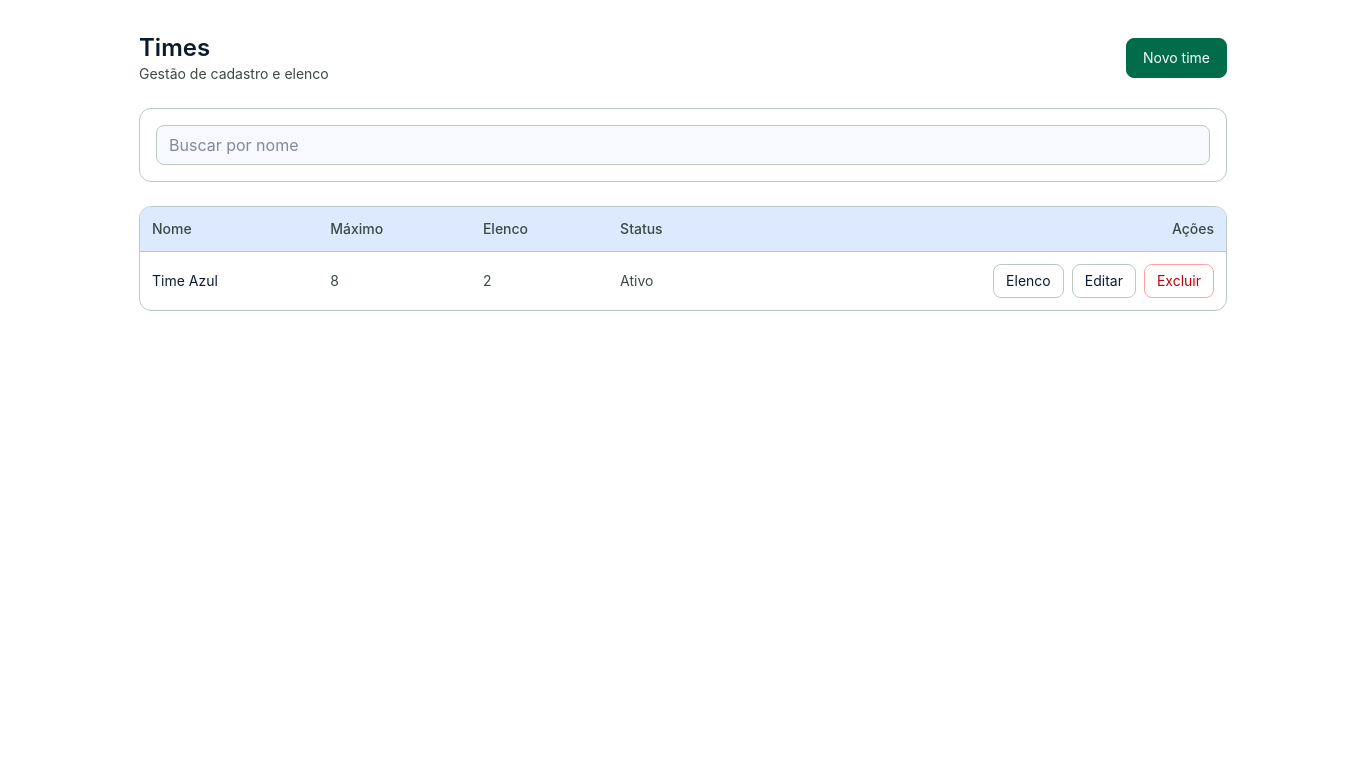
Test: TeamsPage › deve exibir erro de jogadores duplicados no elenco quando estado inicial tem duplicidade
Click the button "Elenco".
click(1028, 281)  # box [993,264,1064,298]
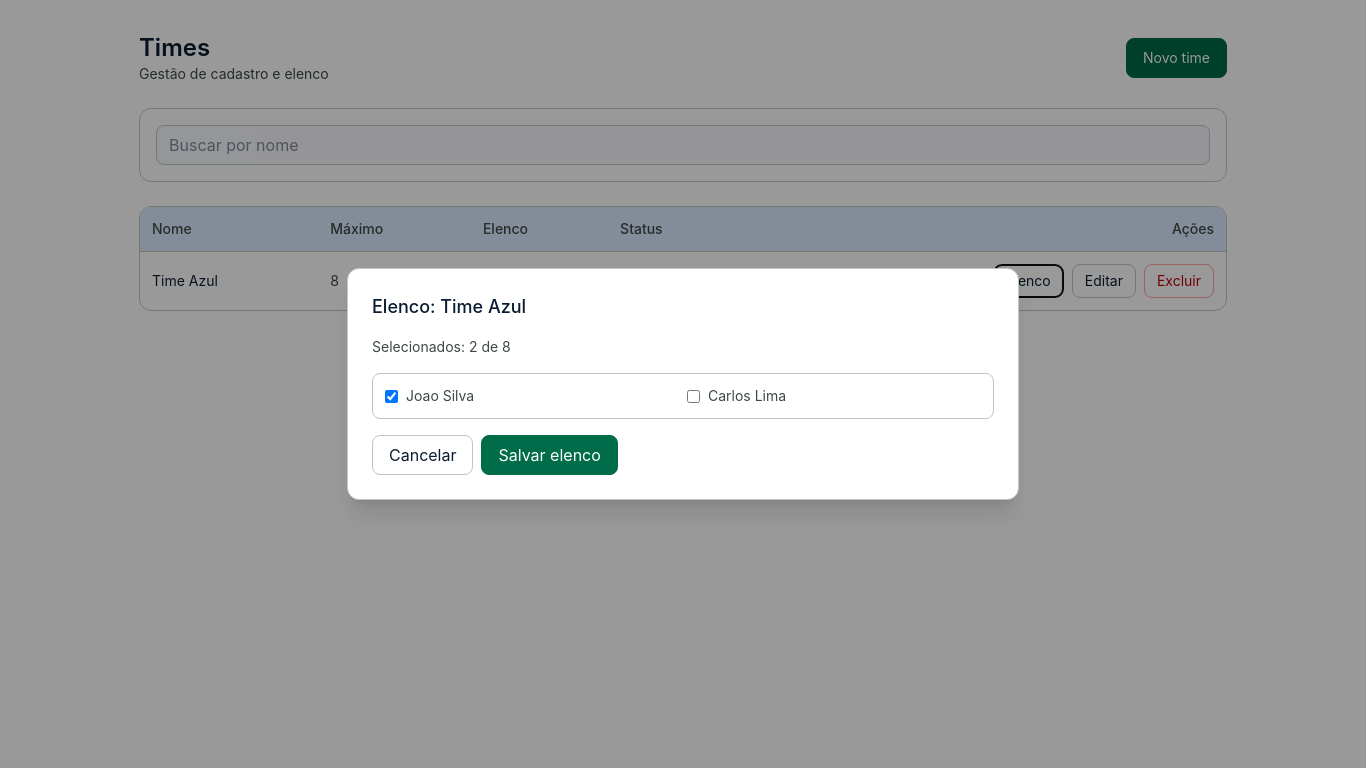
Click the button "Salvar elenco".
click(550, 455)  # box [482,435,618,475]
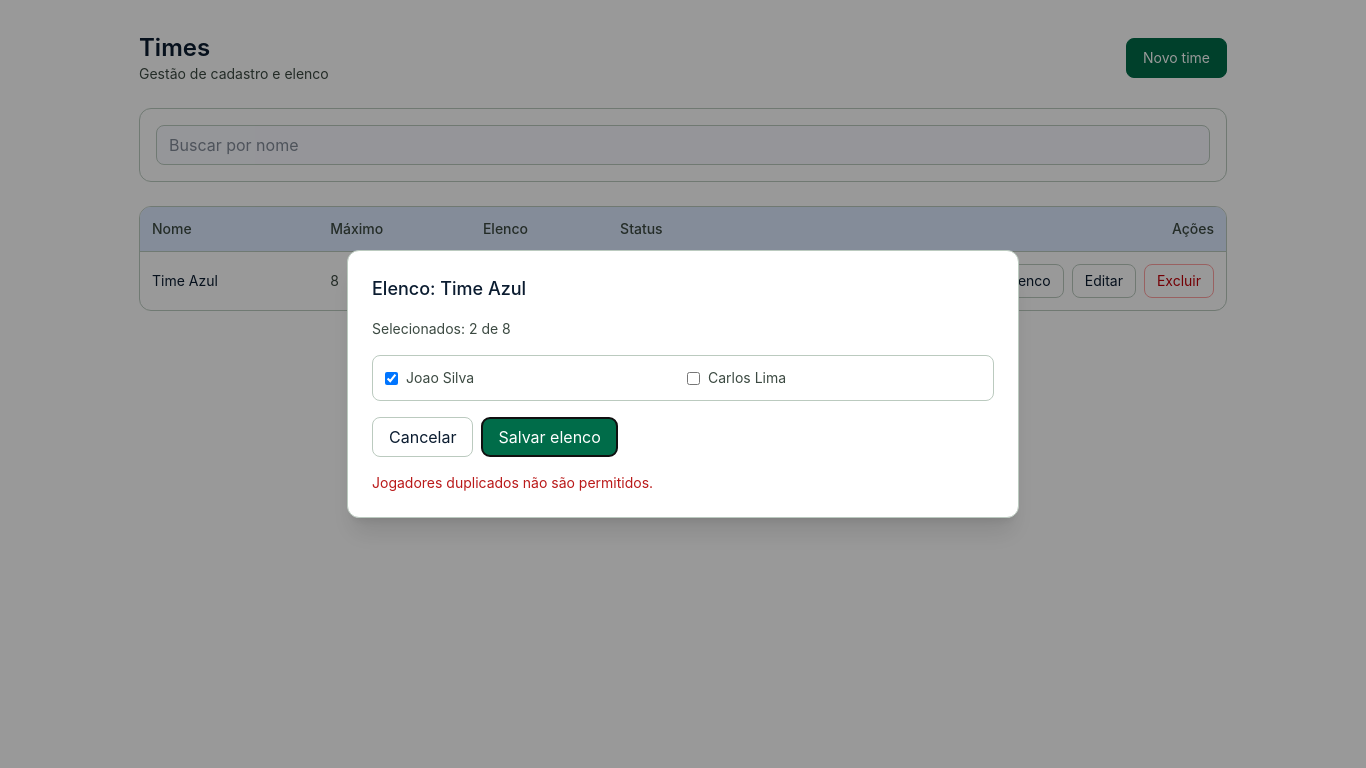
expect the text "Jogadores duplicados não são permitidos." is shown: met, box [372,474,653,491]
